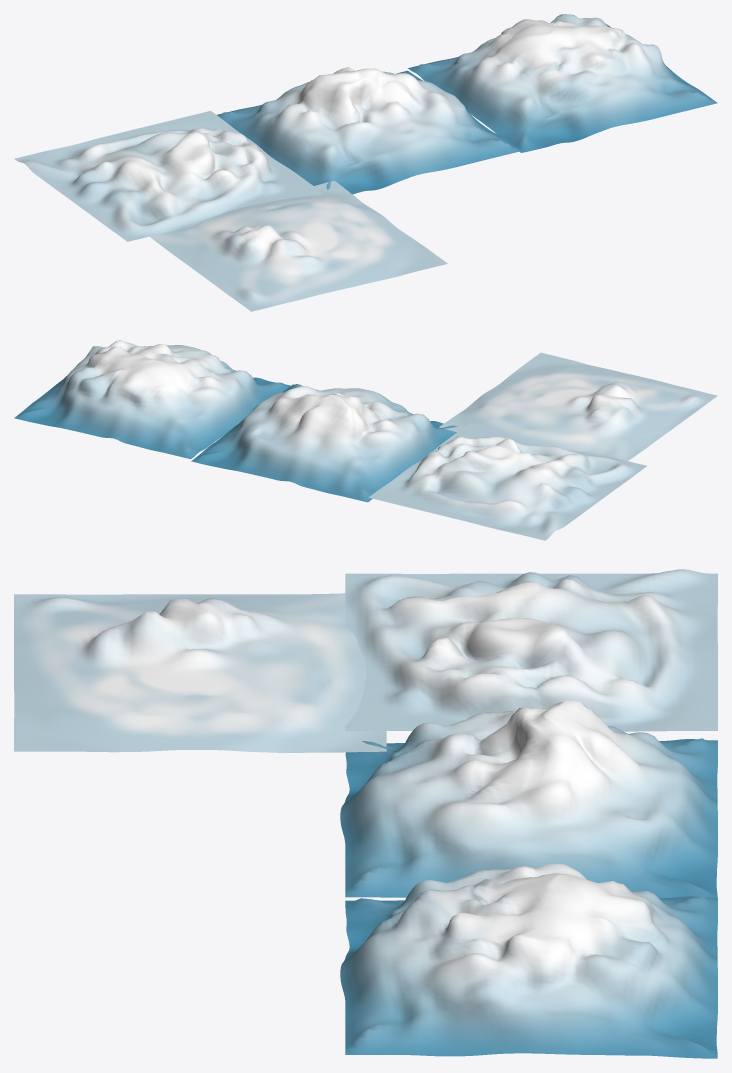
Rendered from is snow.fbx.
3 renders of one model, top to bottom at view 1: azimuth 30°, elevation 25°; view 2: azimuth 150°, elevation 25°; view 3: azimuth 270°, elevation 25°, orthographic. The views are drawn at different scales.
Parts seen in each view (by area): view 1: pPlane5, pPlane3, pPlane1, pPlane4; view 2: pPlane5, pPlane3, pPlane1, pPlane4; view 3: pPlane5, pPlane3, pPlane4, pPlane1.
Boxes of the visible parts, x1,y1,x2,y2 form: pPlane5: (408,14,717,152); pPlane3: (217,67,520,194); pPlane1: (14,110,323,241); pPlane4: (150,180,447,311); pPlane5: (14,340,290,459); pPlane3: (191,384,457,502); pPlane1: (368,423,646,540); pPlane4: (439,352,717,460); pPlane5: (340,863,717,1058); pPlane3: (340,700,717,898); pPlane4: (14,593,386,752); pPlane1: (345,569,717,731).
Size of the model in its own units: 44.04 by 4.58 by 27.73.
